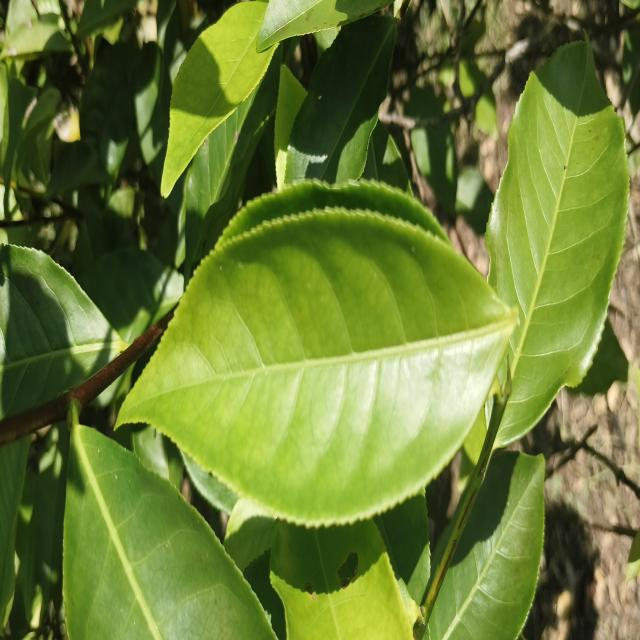Leaf: (116, 209, 518, 525), (485, 41, 629, 447), (63, 426, 275, 640), (184, 48, 282, 284), (161, 2, 275, 196), (428, 451, 545, 640), (0, 245, 125, 418), (285, 15, 396, 183), (270, 521, 412, 640), (77, 247, 183, 342), (80, 42, 134, 182), (257, 0, 392, 51), (37, 422, 69, 611), (0, 437, 29, 636), (134, 42, 172, 185), (568, 317, 628, 396), (410, 122, 457, 213), (274, 64, 307, 189), (46, 140, 110, 196), (455, 167, 493, 234), (19, 88, 60, 146), (77, 0, 137, 38), (165, 175, 184, 253), (431, 519, 454, 573), (405, 86, 443, 117), (459, 60, 487, 97), (475, 90, 497, 137), (16, 149, 26, 170), (498, 363, 506, 382)
